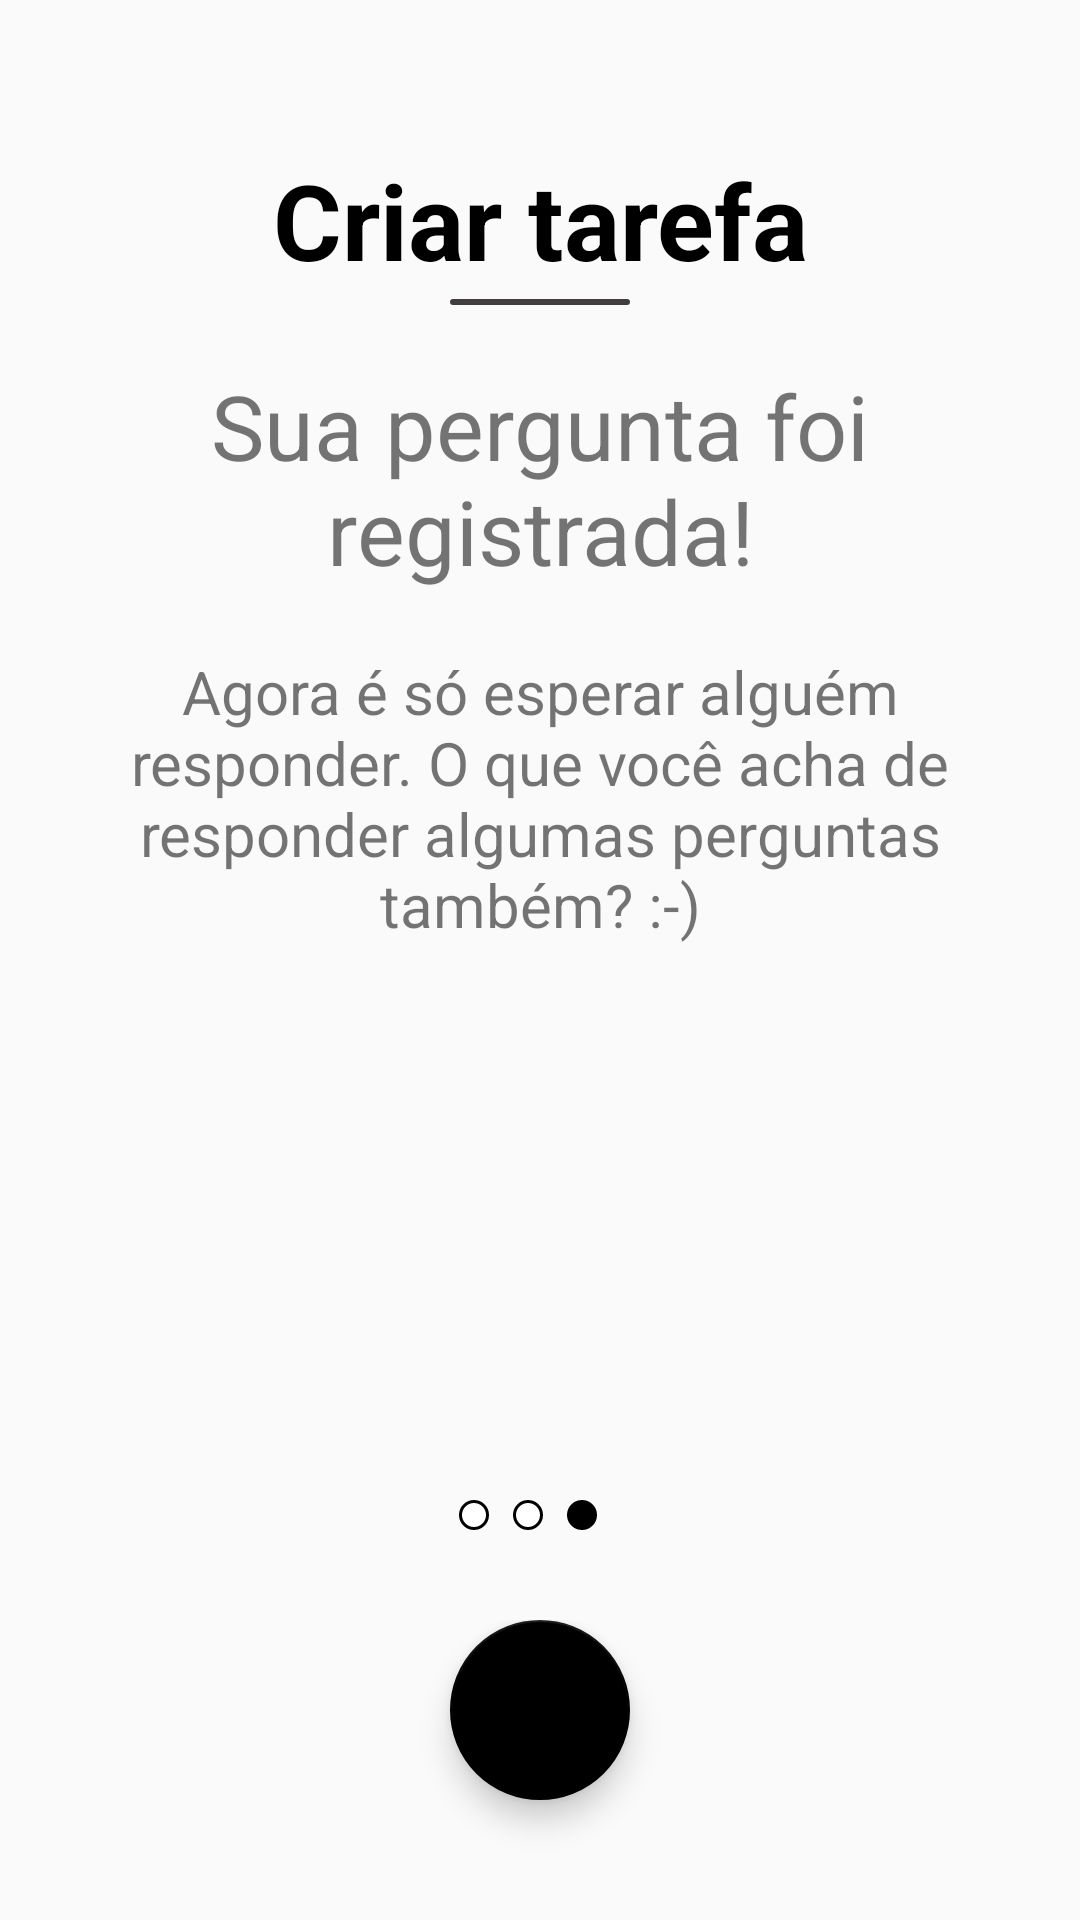

Icon click points for this 1080*1920 phone screenshot, format [x,y]:
shape circle steps: [474,1515], [528,1515]
shape circle stepsactive: [582,1515]
